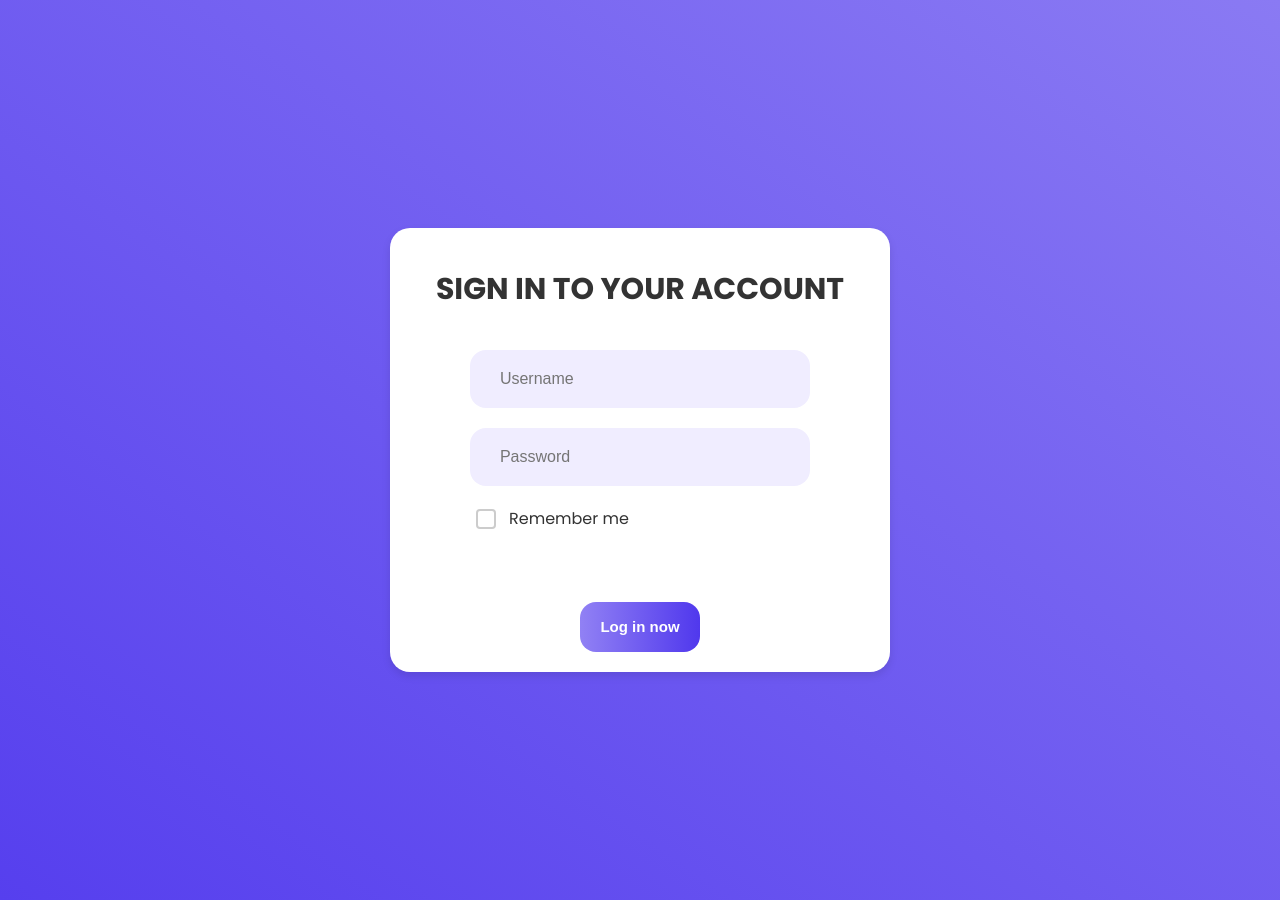
Test case: LoginForm › displays error if login fails
The image size is (1280, 900).
Type "testuser@test.com" into the field with placeholder "Username".
click(640, 379); type("testuser@test.com")  # box [470,350,810,408]
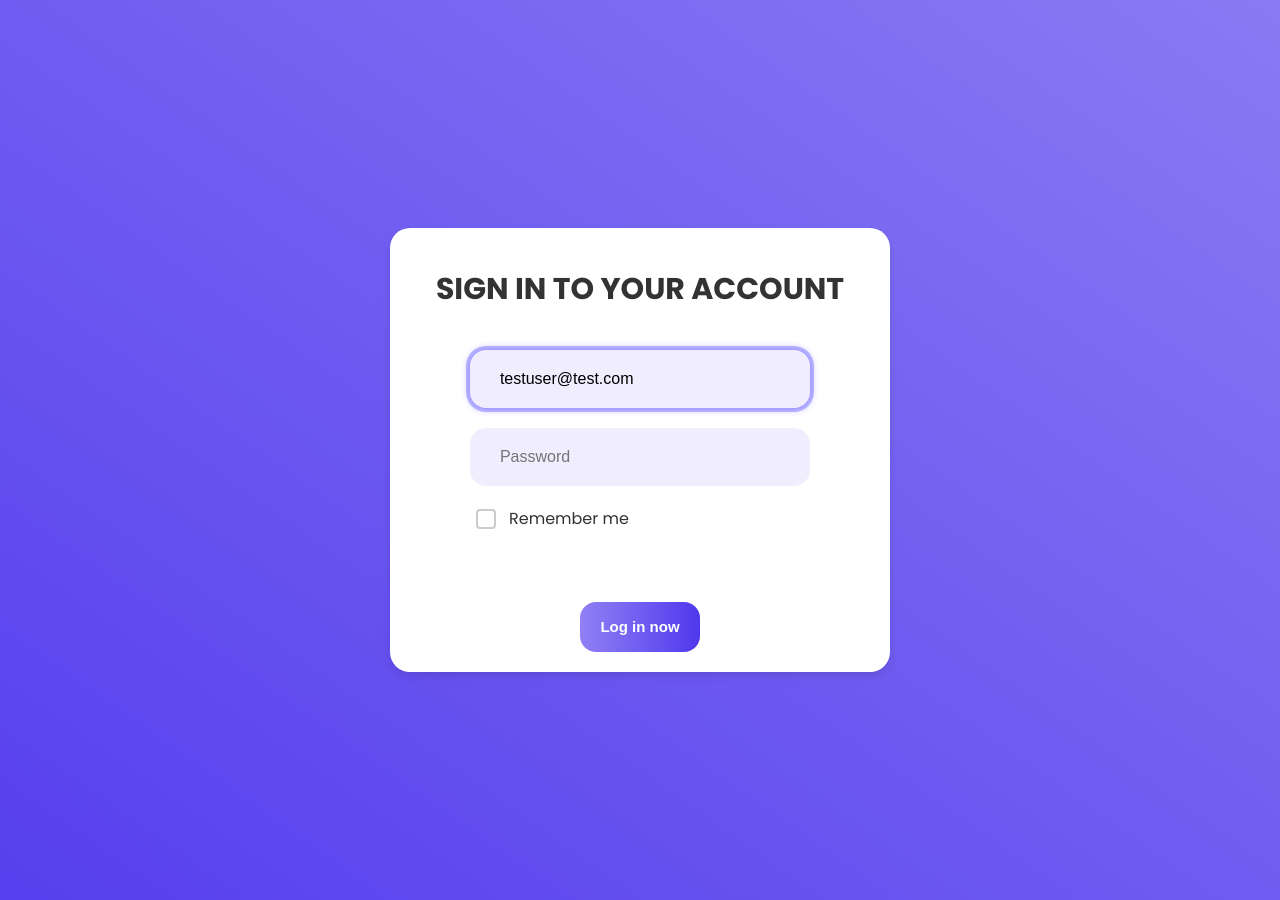
Type "wrongpassword" into the password field with placeholder "Password".
click(640, 457); type("wrongpassword")  # box [470,428,810,486]
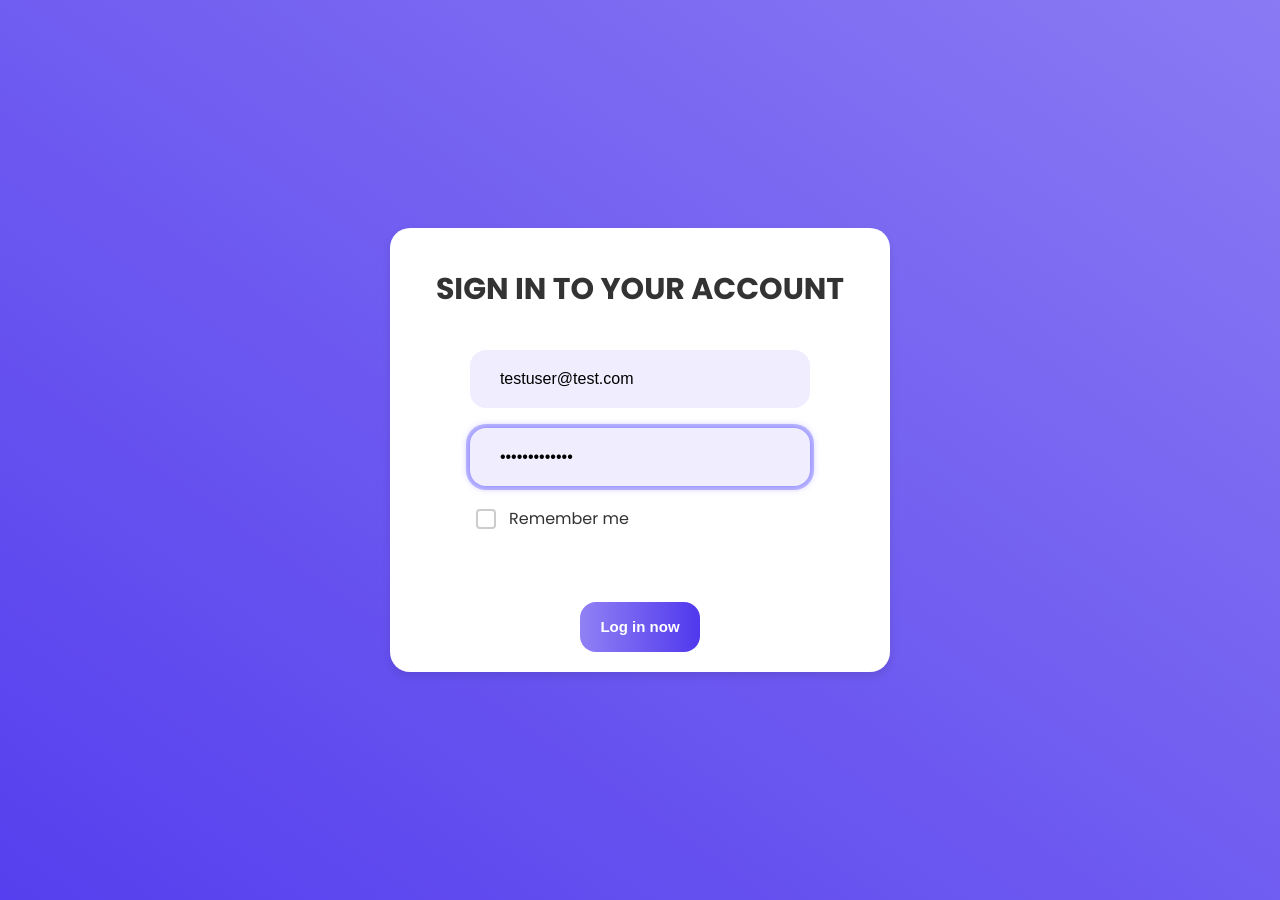
Click the button "Log in now".
click(640, 627)  # box [580,602,700,652]
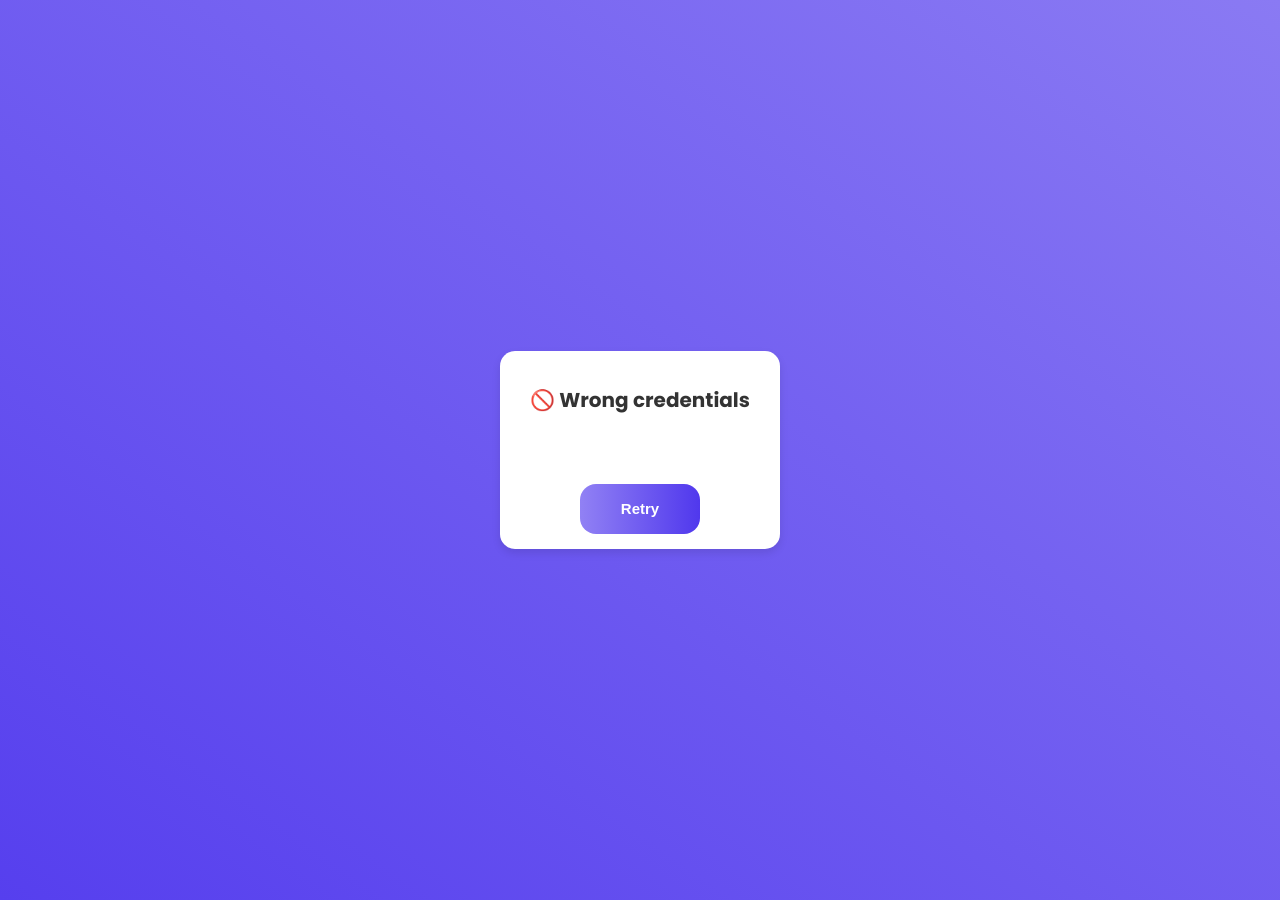
Expected: the heading "🚫 Wrong credentials" is shown, [530,386,750,414]
Expected: the button "Retry" is shown, [580,484,700,534]
